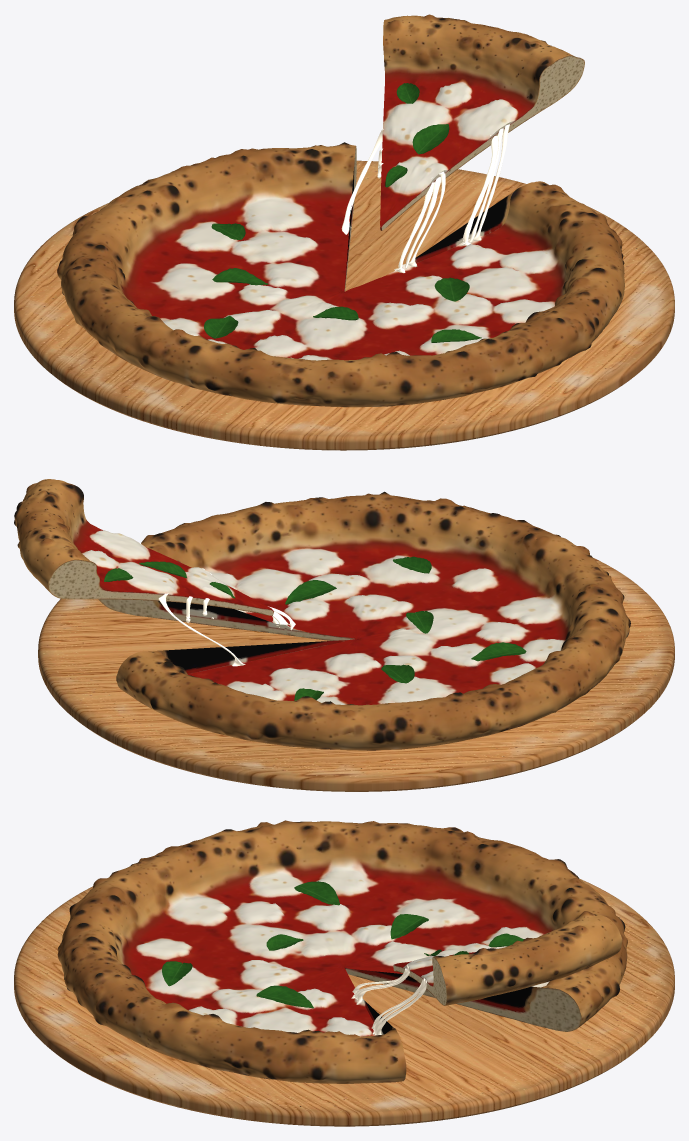
File: pizza.glb
3 views of the same model, one above another, from view 1: azimuth 30°, elevation 25°; view 2: azimuth 150°, elevation 25°; view 3: azimuth 270°, elevation 25° (orthographic). The views are drawn at different scales.
Parts seen in each view (by area): view 1: Pizza_Rest, Pizza_Board, Pizza_LiftedSlice, Pizza_Pull, Pizza_LiftBasil0; view 2: Pizza_Rest, Pizza_Board, Pizza_LiftedSlice, Pizza_Pull, Pizza_RestBasil0, Pizza_RestBasil3, Pizza_RestBasil4; view 3: Pizza_Rest, Pizza_Board, Pizza_LiftedSlice, Pizza_Pull, Pizza_RestBasil0, Pizza_RestBasil3, Pizza_RestBasil4, Pizza_RestBasil1.
Part boxes in pixels (bbox=[...]): Pizza_Rest: bbox=[57, 142, 624, 407]; Pizza_Board: bbox=[14, 160, 674, 450]; Pizza_LiftedSlice: bbox=[380, 14, 584, 230]; Pizza_Pull: bbox=[341, 124, 509, 273]; Pizza_LiftBasil0: bbox=[412, 124, 449, 154]; Pizza_Rest: bbox=[98, 491, 630, 750]; Pizza_Board: bbox=[38, 558, 674, 791]; Pizza_LiftedSlice: bbox=[14, 479, 273, 615]; Pizza_Pull: bbox=[140, 543, 295, 666]; Pizza_RestBasil0: bbox=[285, 580, 336, 604]; Pizza_RestBasil3: bbox=[471, 642, 526, 661]; Pizza_RestBasil4: bbox=[381, 664, 414, 683]; Pizza_Rest: bbox=[57, 820, 627, 1083]; Pizza_Board: bbox=[14, 878, 674, 1126]; Pizza_LiftedSlice: bbox=[393, 911, 622, 1005]; Pizza_Pull: bbox=[351, 964, 426, 1035]; Pizza_RestBasil0: bbox=[256, 985, 313, 1008]; Pizza_RestBasil3: bbox=[294, 881, 339, 905]; Pizza_RestBasil4: bbox=[390, 914, 428, 939]; Pizza_RestBasil1: bbox=[162, 961, 192, 986].
Bounding box in the file's own units: 3.83 × 1.02 × 3.8.
5 materials, 4 textured.
